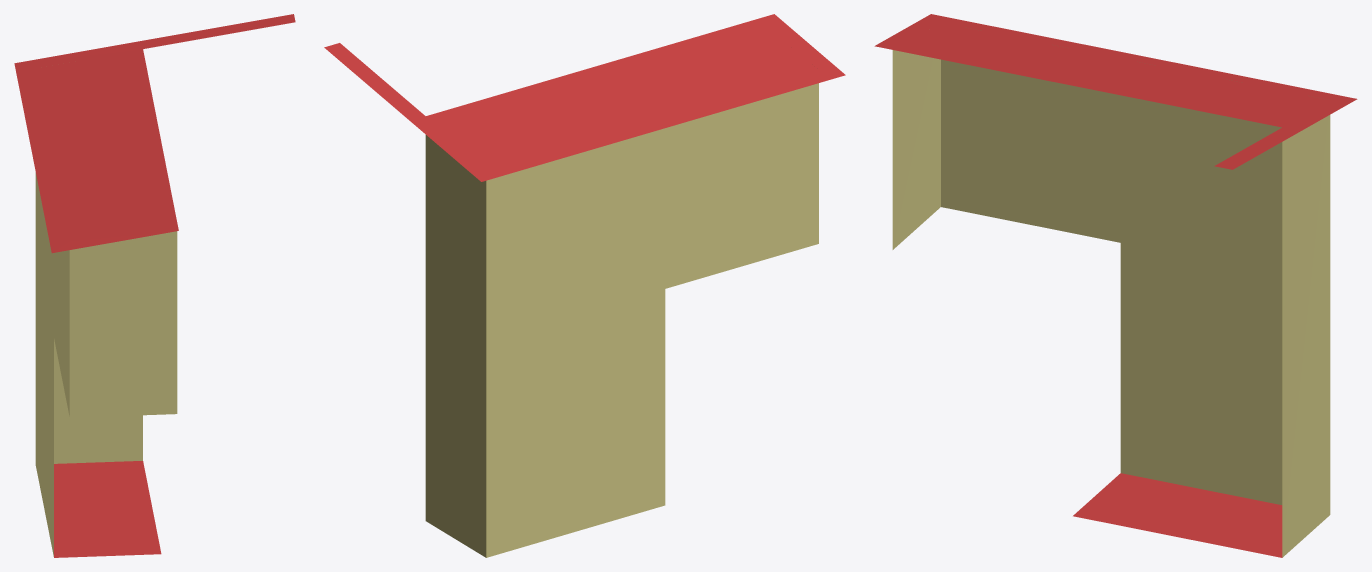
The picture shows the model from 3 angles, left to right: view 1: azimuth 30°, elevation 25°; view 2: azimuth 150°, elevation 25°; view 3: azimuth 270°, elevation 25°; orthographic projection. The views are drawn at different scales.
Bounding box in the file's own units: 11.34 × 11.75 × 12.15.
